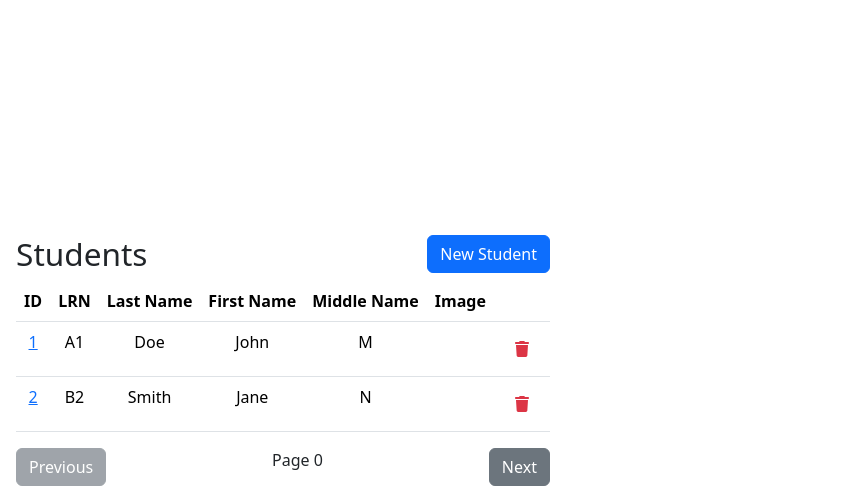
Test: StudentList › deletes a student when delete button is clicked
This screenshot has width=859, height=503.
Check: the text "John" is shown, box [200,321,304,376]
Click the button named "delete-1".
click(522, 348)  # box [502,330,542,368]
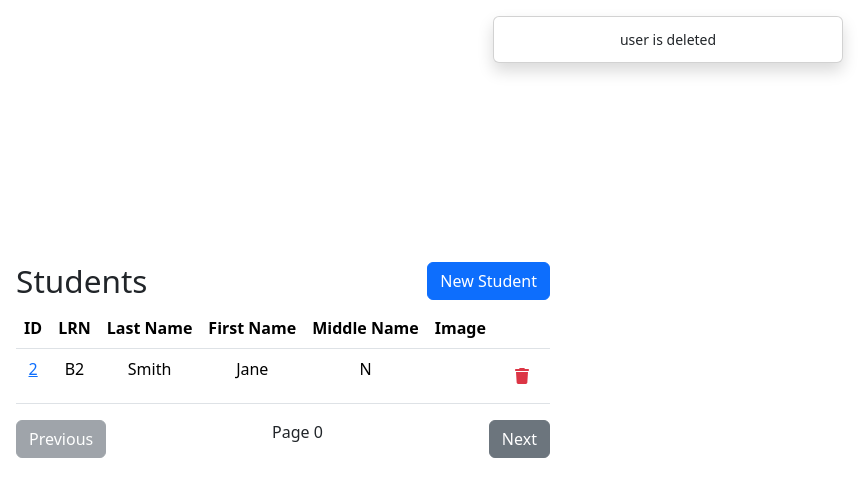
Check: the text "user is deleted" is shown, box [620,30,716,49]
